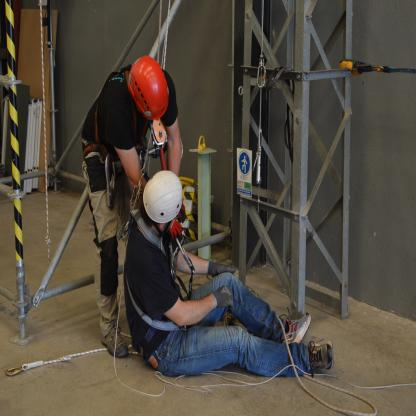Helmet: (136, 169, 189, 231), (124, 56, 172, 121)
